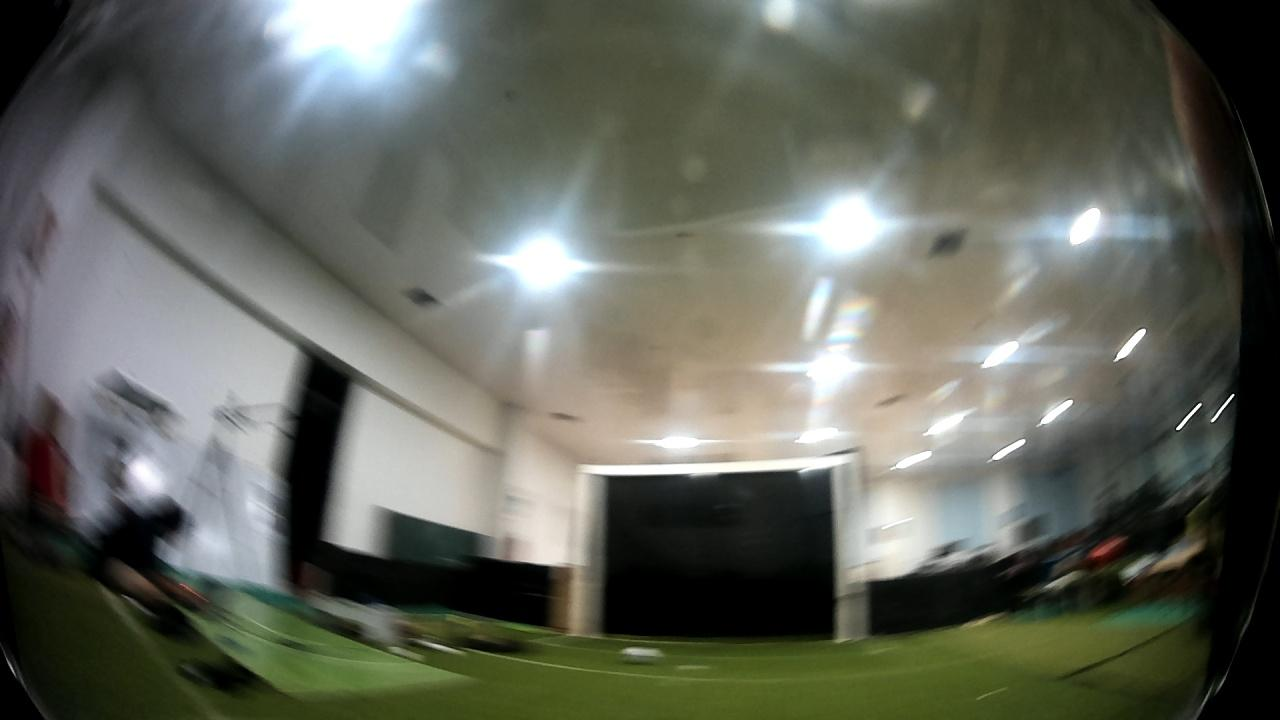ball: (614, 642, 667, 661)
